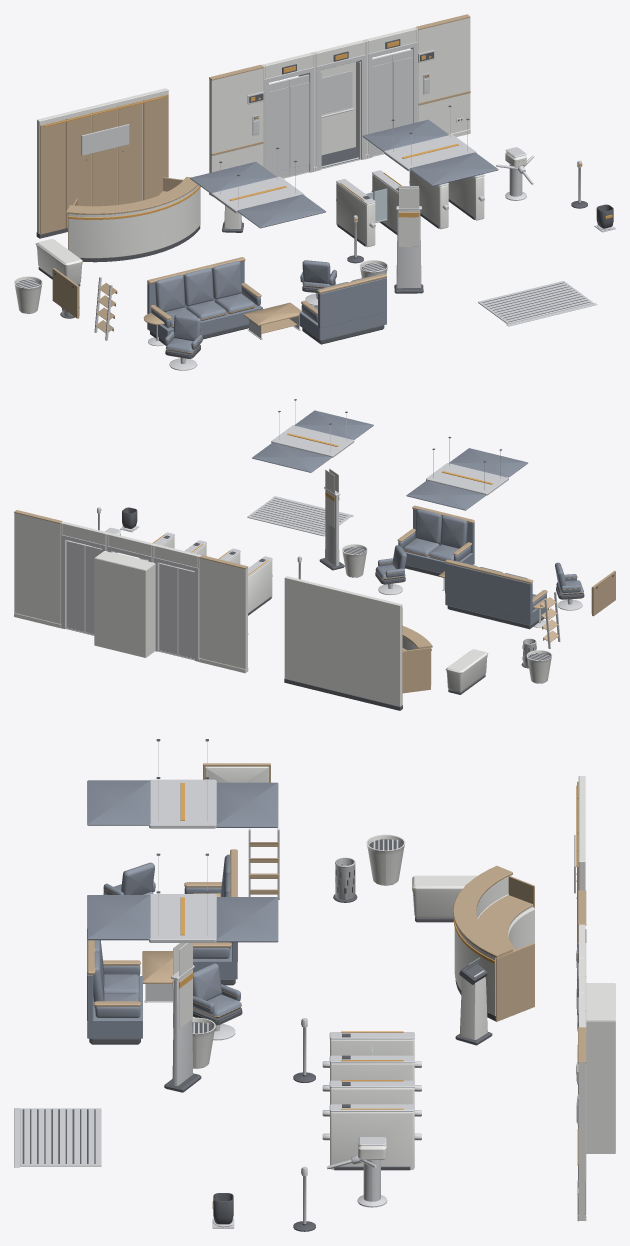
The model's file is office-lobby.glb.
3 views of the same model, one above another, from view 1: azimuth 30°, elevation 25°; view 2: azimuth 150°, elevation 25°; view 3: azimuth 270°, elevation 25° (orthographic). The views are drawn at different scales.
Visible parts, largest first — view 1: 000-reception-back-wall/1, 018-visitor-sofa-three-seat/1, 001-reception-desk-curved/0, 015-corridor-wall-module/0, 012-corridor-wall-module/0, 019-visitor-sofa-two-seat/1, 010-lift-door-module-open/0, 032-acoustic-ceiling-raft/1, 033-acoustic-ceiling-raft/1, 029-entrance-mat-threshold/0, 010-lift-door-module-open/1, 005-security-speedgate-pair-open/0 (+29 smaller); view 2: 000-reception-back-wall/0, 010-lift-door-module-open/0, 012-corridor-wall-module/0, 015-corridor-wall-module/0, 018-visitor-sofa-three-seat/1, 019-visitor-sofa-two-seat/1, 033-acoustic-ceiling-raft/1, 032-acoustic-ceiling-raft/1, 029-entrance-mat-threshold/0, 011-lift-door-module/lift-door-right, 009-lift-door-module/lift-door-right, 001-reception-desk-curved/1 (+20 smaller); view 3: 001-reception-desk-curved/1, 033-acoustic-ceiling-raft/1, 032-acoustic-ceiling-raft/1, 010-lift-door-module-open/0, 005-security-speedgate-pair-open/0, 029-entrance-mat-threshold/0, 019-visitor-sofa-two-seat/1, 032-acoustic-ceiling-raft/0, 033-acoustic-ceiling-raft/0, 004-security-speedgate-pair/0, 001-reception-desk-curved/0, 003-lobby-planter-trough/1 (+20 smaller).
Part boxes in pixels (box(x1,y1,x2,y2)): 000-reception-back-wall/1: box(40, 94, 168, 234); 018-visitor-sofa-three-seat/1: box(147, 261, 262, 341); 001-reception-desk-curved/0: box(68, 185, 200, 258); 015-corridor-wall-module/0: box(418, 17, 470, 136); 012-corridor-wall-module/0: box(209, 68, 263, 196); 019-visitor-sofa-two-seat/1: box(299, 275, 386, 340); 010-lift-door-module-open/0: box(298, 40, 366, 171); 032-acoustic-ceiling-raft/1: box(190, 162, 326, 228); 033-acoustic-ceiling-raft/1: box(362, 119, 498, 186); 029-entrance-mat-threshold/0: box(478, 281, 597, 326); 010-lift-door-module-open/1: box(316, 54, 365, 170); 005-security-speedgate-pair-open/0: box(409, 171, 484, 229); 000-reception-back-wall/0: box(284, 576, 402, 706); 010-lift-door-module-open/0: box(94, 532, 155, 657); 012-corridor-wall-module/0: box(199, 558, 248, 673); 015-corridor-wall-module/0: box(14, 513, 60, 627); 018-visitor-sofa-three-seat/1: box(445, 560, 548, 625); 019-visitor-sofa-two-seat/1: box(398, 509, 474, 573); 033-acoustic-ceiling-raft/1: box(252, 410, 373, 472); 032-acoustic-ceiling-raft/1: box(406, 448, 527, 510); 029-entrance-mat-threshold/0: box(247, 496, 353, 536); 011-lift-door-module/lift-door-right: box(66, 540, 84, 631); 009-lift-door-module/lift-door-right: box(159, 563, 177, 654); 001-reception-desk-curved/1: box(402, 626, 432, 693); 001-reception-desk-curved/1: box(453, 865, 534, 1021); 033-acoustic-ceiling-raft/1: box(87, 895, 278, 942); 032-acoustic-ceiling-raft/1: box(87, 780, 278, 827); 010-lift-door-module-open/0: box(578, 959, 615, 1153); 005-security-speedgate-pair-open/0: box(330, 1087, 414, 1169); 029-entrance-mat-threshold/0: box(14, 1108, 101, 1167); 019-visitor-sofa-two-seat/1: box(87, 940, 142, 1038); 032-acoustic-ceiling-raft/0: box(149, 741, 216, 828); 033-acoustic-ceiling-raft/0: box(149, 856, 216, 942); 004-security-speedgate-pair/0: box(330, 1039, 414, 1080); 001-reception-desk-curved/0: box(454, 877, 534, 1015); 003-lobby-planter-trough/1: box(412, 875, 477, 918).
Bounding box in the file's own units: 12.71 × 3.67 × 8.89.
